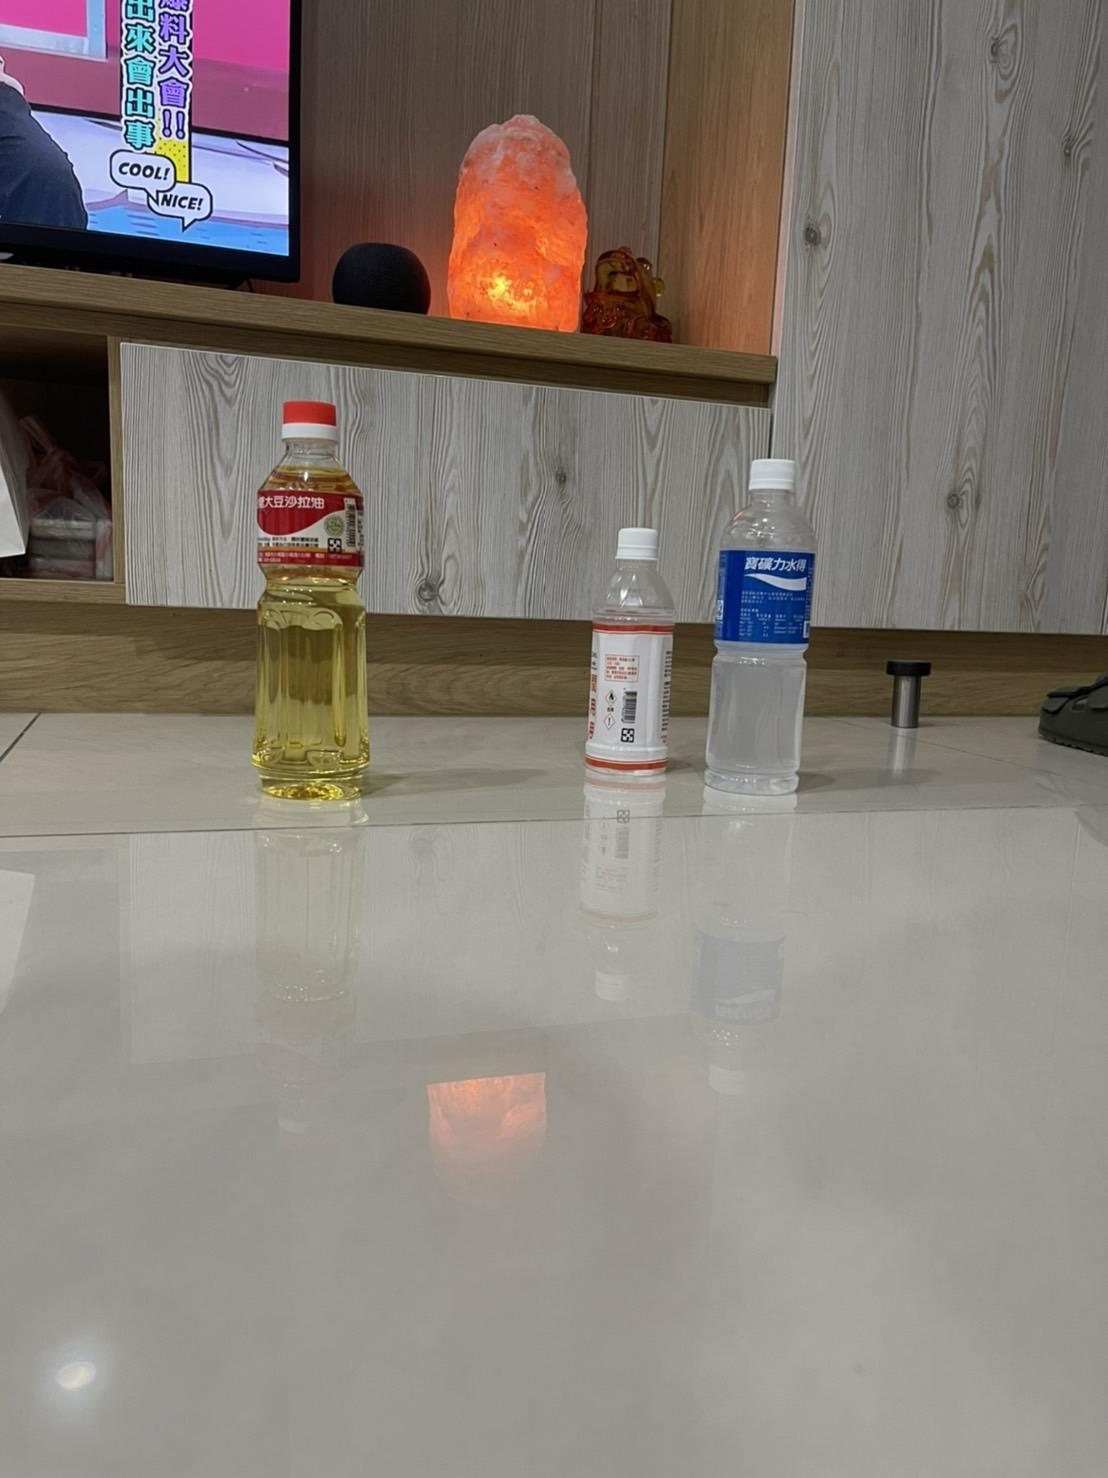bottle: (229, 386, 391, 816), (690, 471, 836, 770), (16, 513, 132, 793)
